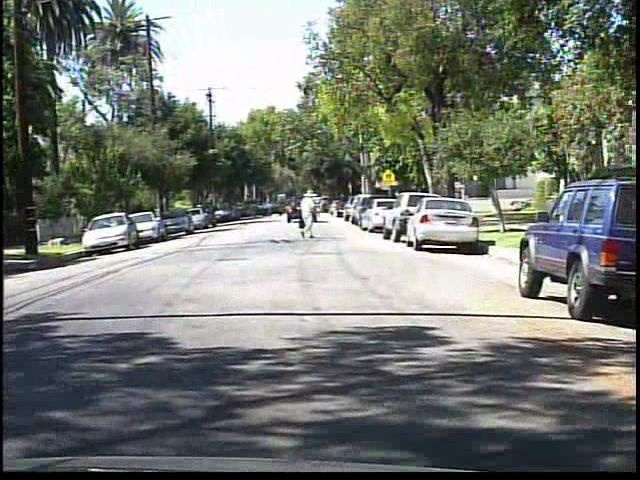person: (294, 188, 324, 241)
